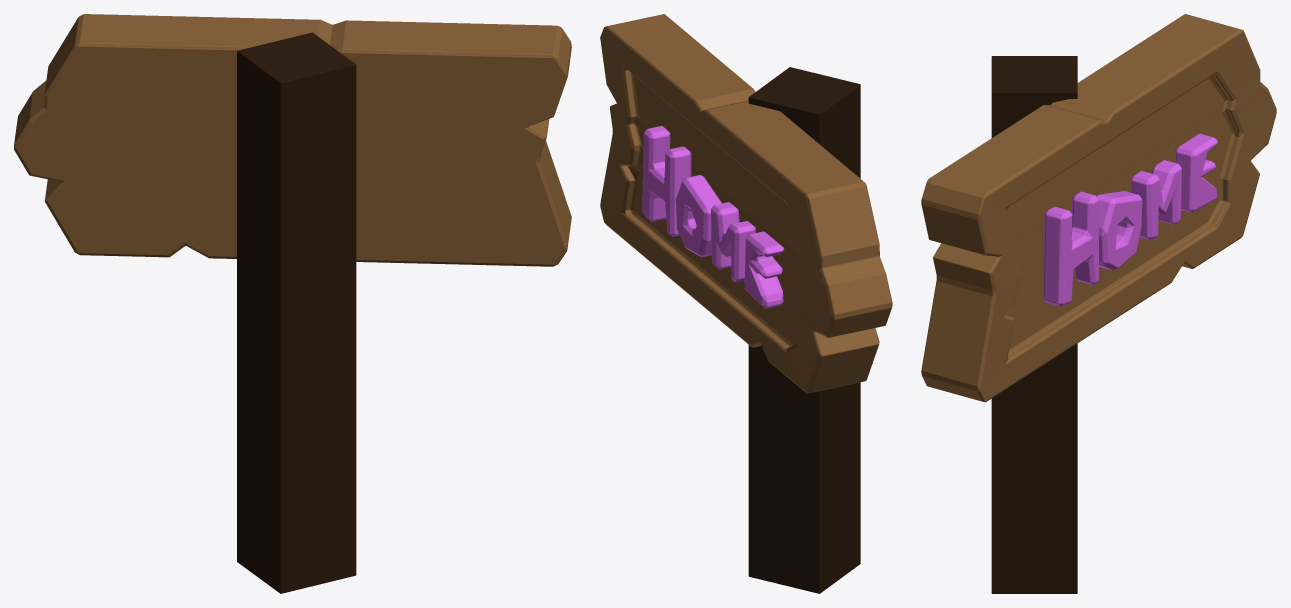
The model's file is HomeSign.fbx.
3 renders of one model, left to right at view 1: azimuth 30°, elevation 25°; view 2: azimuth 150°, elevation 25°; view 3: azimuth 270°, elevation 25°, orthographic. The views are drawn at different scales.
Parts seen in each view (by area): view 1: Cube.014; view 2: Cube.014; view 3: Cube.014.
Boxes of the visible parts, box(x1,y1,x2,y2) form: Cube.014: box(14, 14, 571, 593); Cube.014: box(600, 14, 892, 593); Cube.014: box(921, 14, 1276, 593).
Size of the model in its own units: 236 by 266 by 171.
